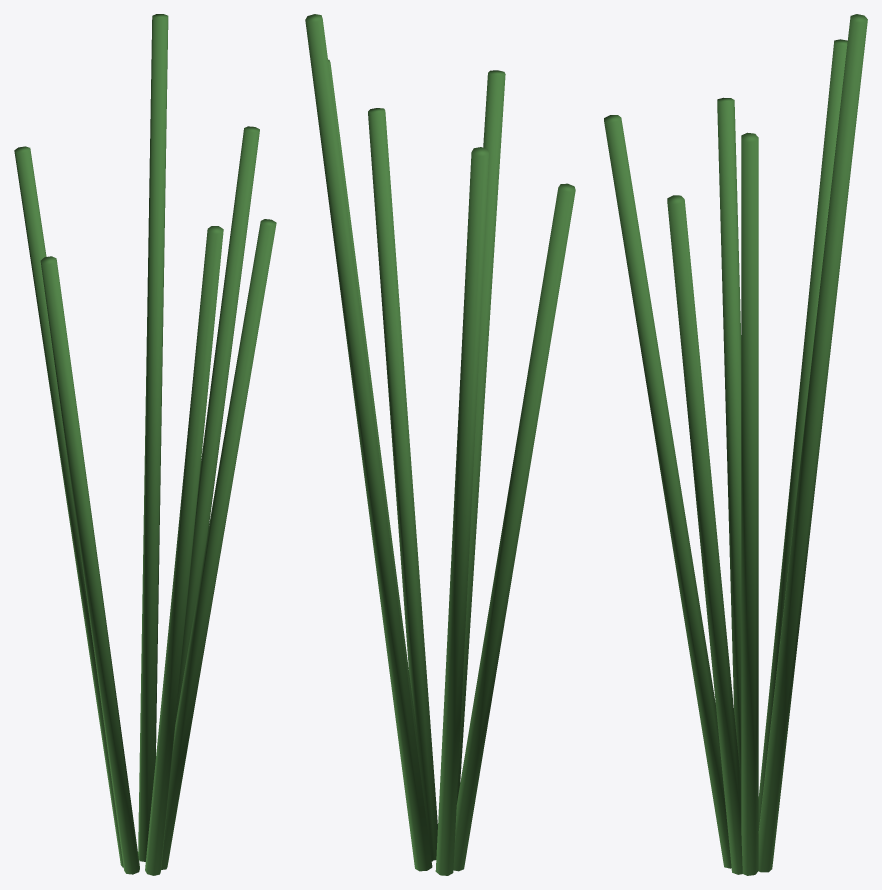
The model's file is Chives.glb.
3 views of the same model, side by side, from view 1: azimuth 30°, elevation 25°; view 2: azimuth 150°, elevation 25°; view 3: azimuth 270°, elevation 25° (orthographic). The views are drawn at different scales.
Parts seen in each view (by area): view 1: Chives; view 2: Chives; view 3: Chives.
Part boxes in pixels (x1,y1,x2,y2): Chives: [14, 14, 276, 875]; Chives: [305, 14, 575, 875]; Chives: [604, 14, 867, 875].
Size of what is drawn, in the model's own units: 0.0507 by 0.1698 by 0.046.
